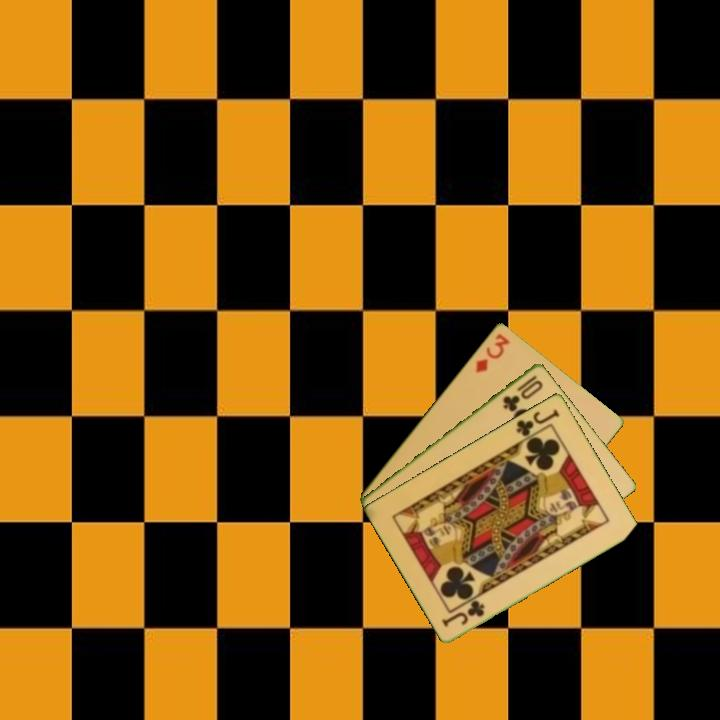10c: (499, 371, 546, 414)
3d: (472, 330, 513, 376)
Jc: (512, 405, 562, 444), (439, 596, 488, 630)
